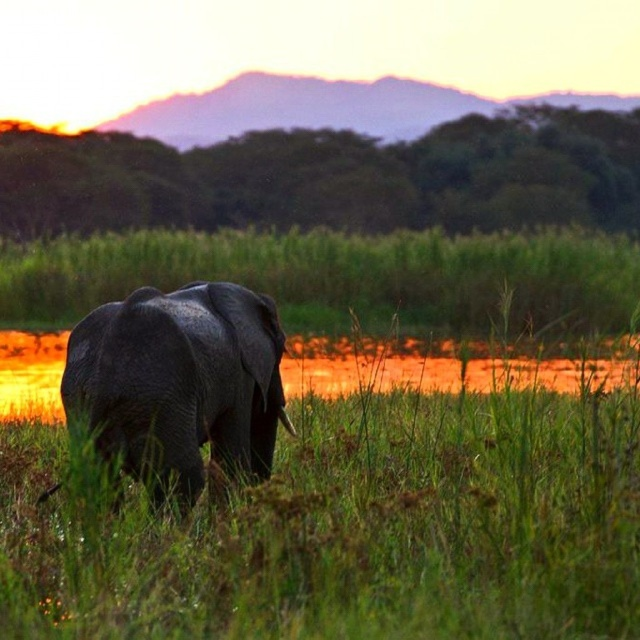Elephant: (58, 276, 299, 519)
